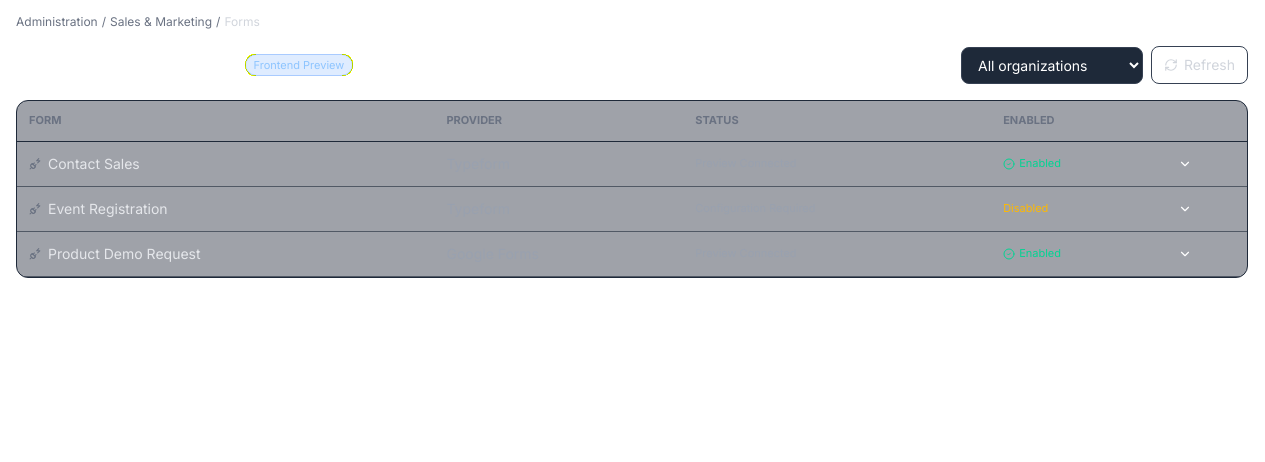
Test: SalesFormsIntegration › lists form connections and expands to show field mappings
This screenshot has width=1265, height=462.
Click the row "Contact Sales Typeform Preview Connected Enabled".
click(632, 164)  # box top-left (17, 141), bottom-right (1247, 186)
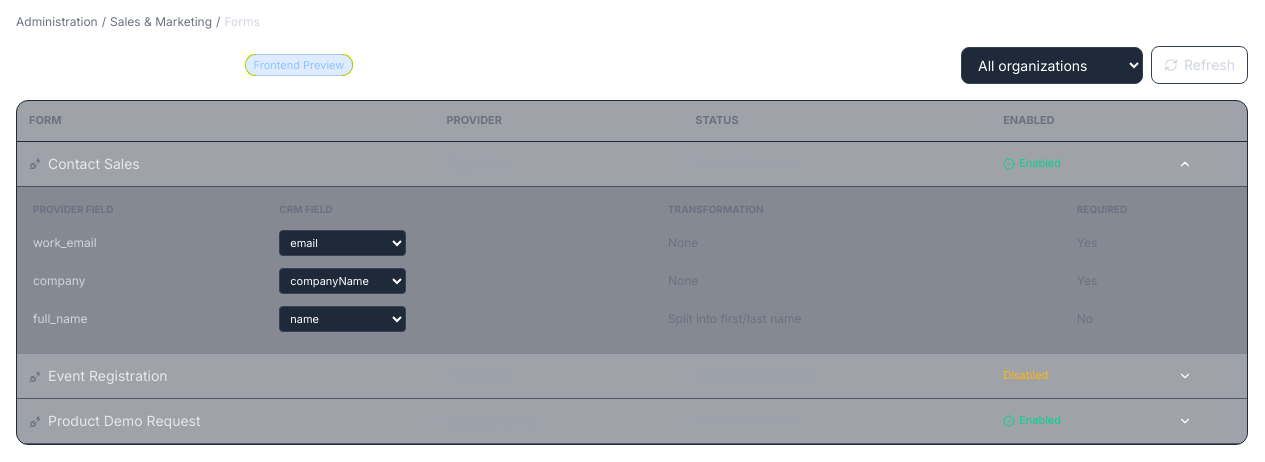
Check: the text "work_email" is shown, box top-left (33, 224), bottom-right (279, 262)
